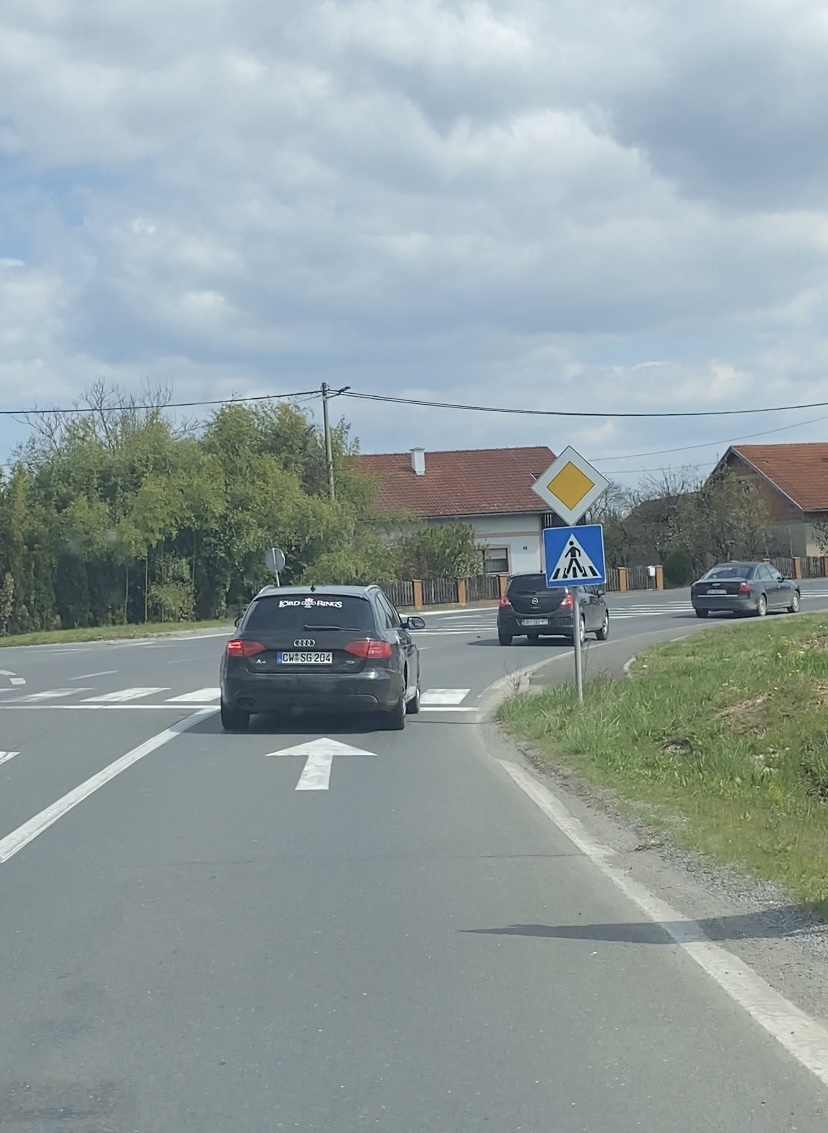Cesta s prednošću prolaska: (529, 444, 613, 525)
Pješački prijelaz: (542, 523, 606, 588)
